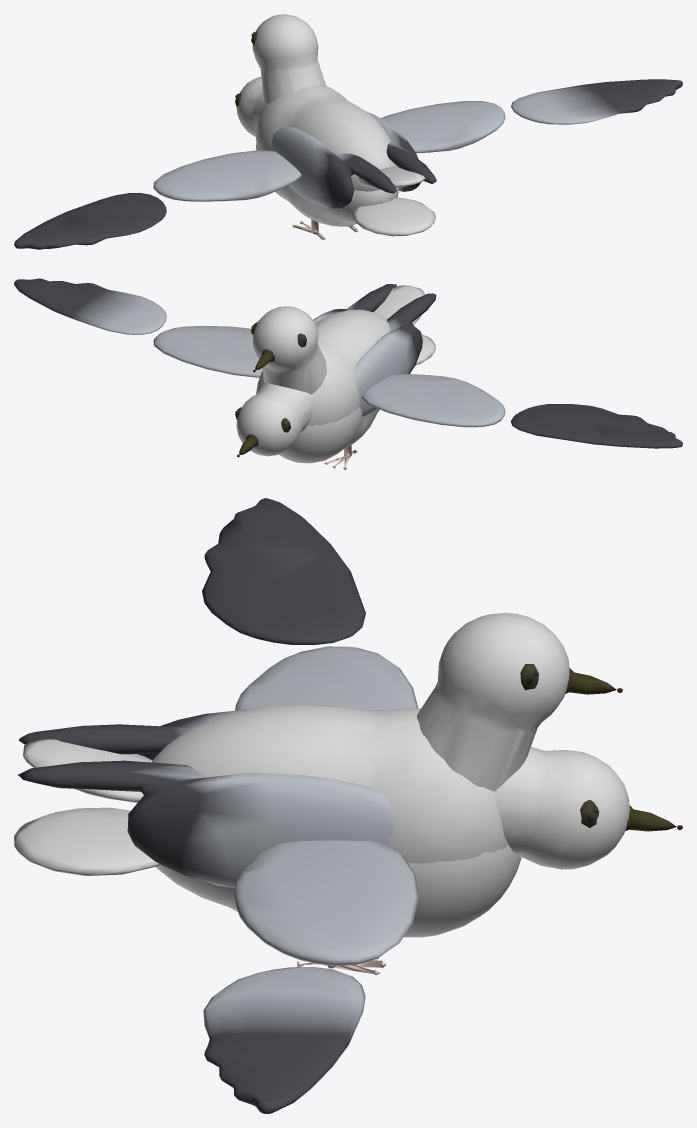
Rendered from gull_parts.glb.
The picture shows the model from 3 angles, top to bottom: view 1: azimuth 30°, elevation 25°; view 2: azimuth 150°, elevation 25°; view 3: azimuth 270°, elevation 25°; orthographic projection. The views are drawn at different scales.
Visible parts, largest first — view 1: BODY, WING_L, WINGTIP_R__WING_R, WINGTIP_L__WING_L, BODY1, HEAD, WING_R, TAIL.001, BODY.001, BODY3, HEAD.001, TAIL; view 2: WING_L, BODY, WINGTIP_L__WING_L, WINGTIP_R__WING_R, HEAD, WING_R, HEAD.001, BODY1, BODY.001, TAIL, BODY3, TAIL.001; view 3: BODY, BODY3, WING_R, HEAD, WINGTIP_R__WING_R, WINGTIP_L__WING_L, HEAD.001, WING_L, BODY.001, TAIL.001, BODY1, TAIL.
Boxes of the visible parts, x1,y1,x2,y2 form: BODY: (256,85,397,191); WING_L: (153,150,301,201); WINGTIP_R__WING_R: (511,79,682,124); WINGTIP_L__WING_L: (14,192,166,249); BODY1: (271,126,396,208); HEAD: (252,14,325,105); WING_R: (381,101,505,153); TAIL.001: (352,197,435,236); BODY.001: (256,143,398,226); BODY3: (367,112,436,191); HEAD.001: (236,76,264,137); TAIL: (358,166,425,187); WING_L: (361,374,505,427); BODY: (256,309,390,426); WINGTIP_L__WING_L: (511,404,682,448); WINGTIP_R__WING_R: (14,278,166,334); HEAD: (252,306,326,394); WING_R: (153,325,262,377); HEAD.001: (236,382,313,456); BODY1: (354,293,436,416); BODY.001: (278,407,379,463); TAIL: (373,285,424,324); BODY3: (313,284,396,322); TAIL.001: (416,334,435,364); BODY: (152,704,507,863); BODY3: (18,760,395,887); WING_R: (234,840,418,965); HEAD: (417,612,569,791); WINGTIP_R__WING_R: (203,967,365,1113); WINGTIP_L__WING_L: (202,498,365,644); HEAD.001: (494,746,629,869); WING_L: (235,646,417,710); BODY.001: (156,844,521,937); TAIL.001: (14,807,160,875); BODY1: (19,709,249,760); TAIL: (23,739,152,802).
Size of the model in its own units: 1.06 by 0.2733 by 0.4938.
